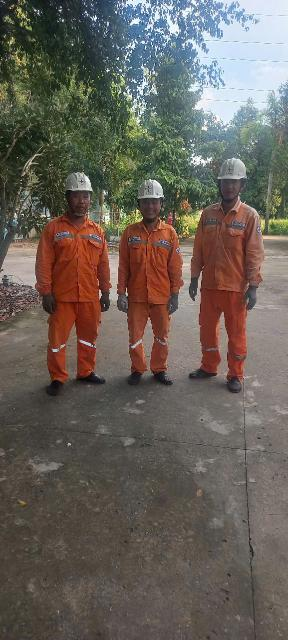gloves: (239, 276, 263, 314), (37, 290, 61, 318), (184, 276, 209, 301), (114, 288, 135, 316), (97, 286, 114, 316), (168, 292, 182, 318)
helmet: (210, 153, 262, 184), (128, 176, 174, 201), (61, 170, 102, 198)
shoes: (38, 376, 75, 401), (187, 357, 218, 386), (73, 367, 114, 388), (152, 362, 178, 391), (124, 361, 148, 387), (226, 363, 246, 394)
